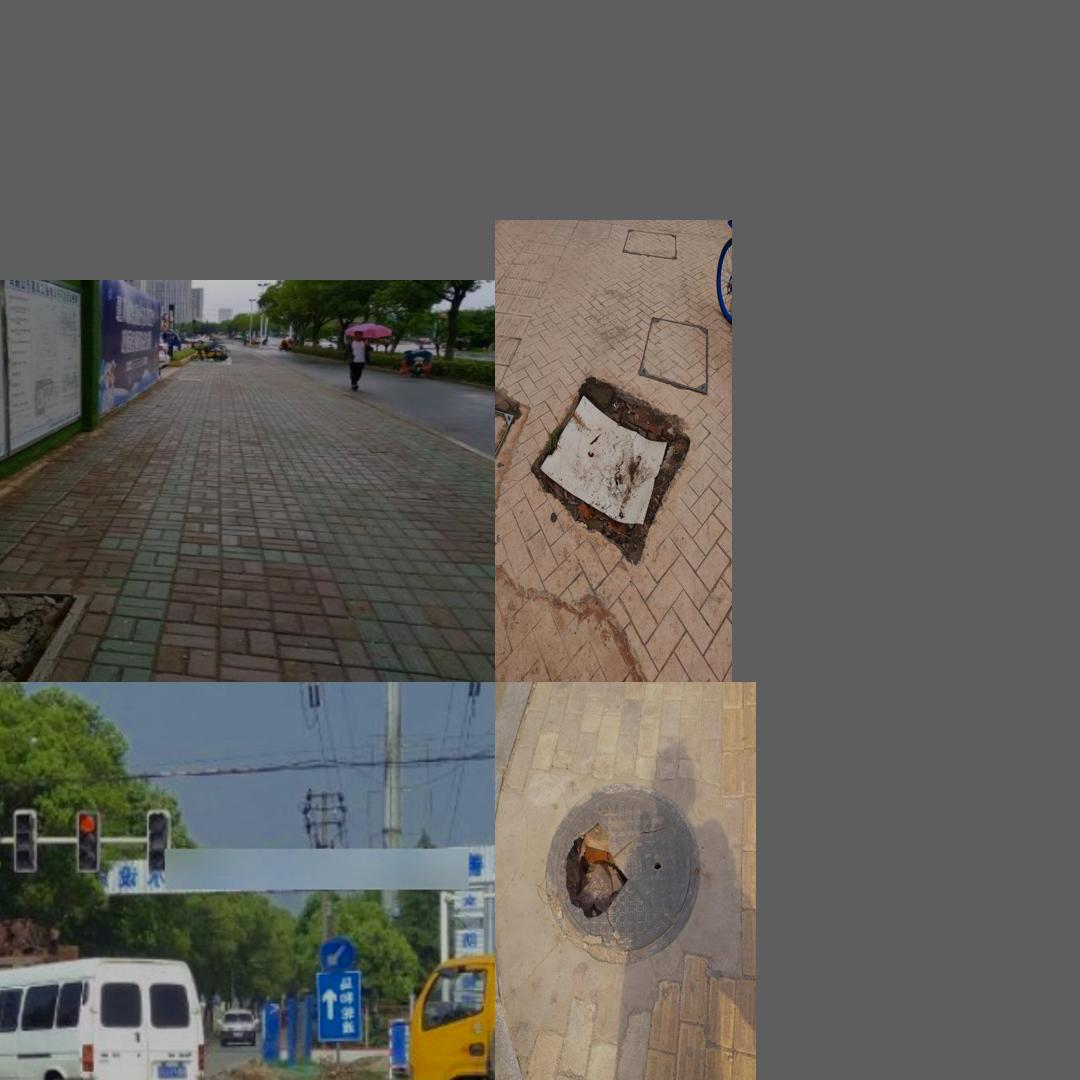broke: (526, 363, 695, 578), (536, 773, 707, 974), (0, 584, 91, 682)
